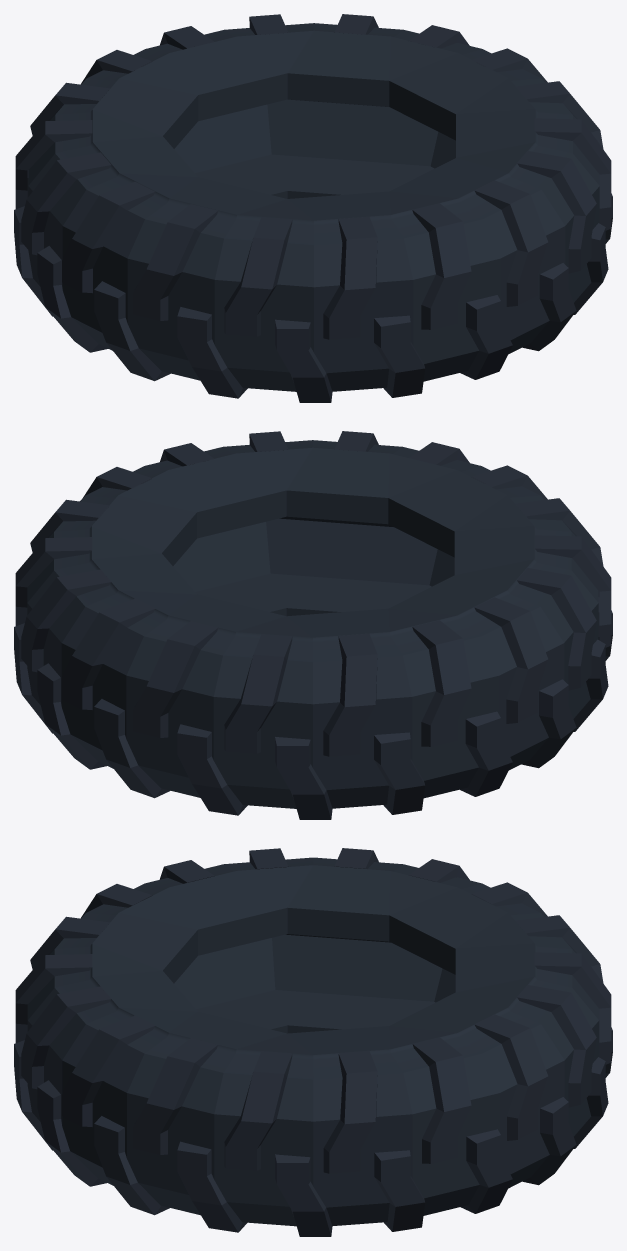
The model's file is SM_Prop_Tyre_01_stylized_reference.fbx.
3 renders of one model, top to bottom at view 1: azimuth 30°, elevation 25°; view 2: azimuth 150°, elevation 25°; view 3: azimuth 270°, elevation 25°, orthographic.
Parts seen in each view (by area): view 1: SM_Prop_Tyre_01; view 2: SM_Prop_Tyre_01; view 3: SM_Prop_Tyre_01.
Part boxes in pixels (x1,y1,x2,y2): SM_Prop_Tyre_01: (14, 14, 612, 402); SM_Prop_Tyre_01: (14, 431, 612, 819); SM_Prop_Tyre_01: (14, 848, 612, 1236).
Bounding box in the file's own units: 172 × 52.5 × 172.
Materials: 1 (1 with a texture image).
